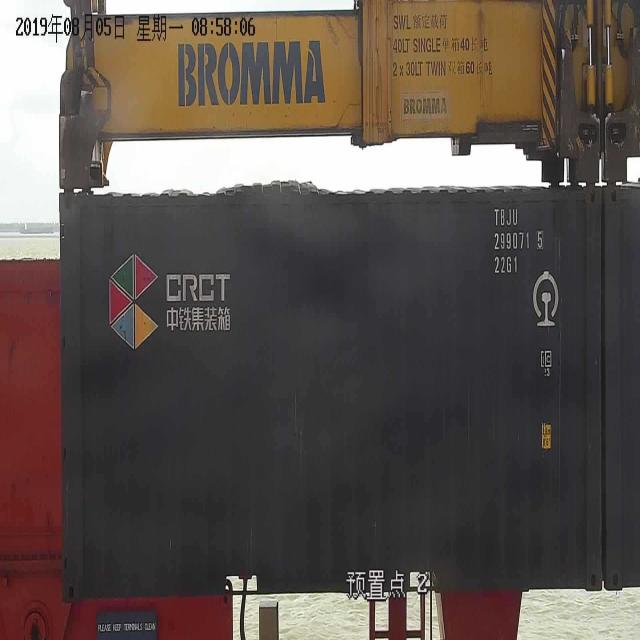dent: (206, 170, 347, 214)
